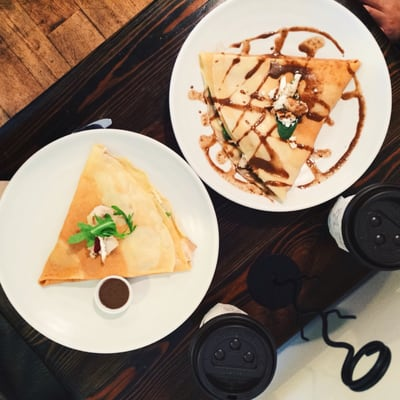soup: (37, 142, 190, 286)
sushi: (167, 1, 384, 212)
